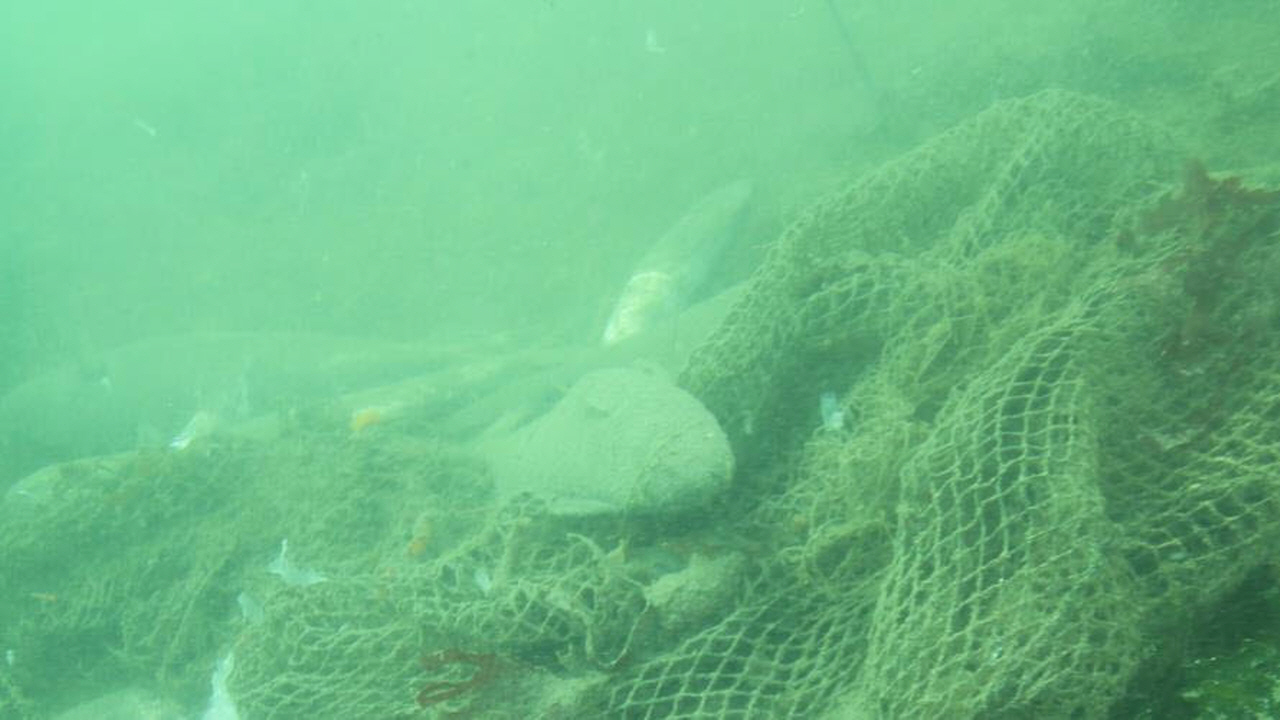fish net: (225, 90, 1280, 720)
